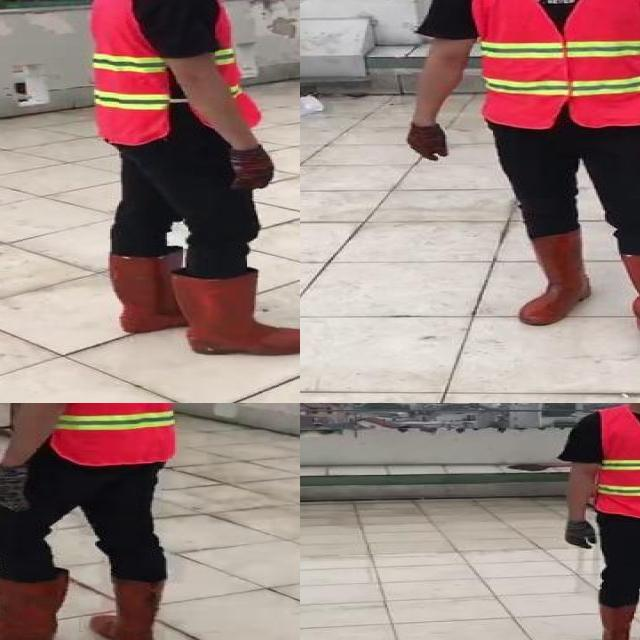boots: (170, 266, 300, 355), (103, 252, 201, 332), (520, 229, 589, 327), (90, 579, 168, 640), (0, 574, 70, 640), (617, 249, 640, 358), (594, 599, 639, 640)
hand_glove: (224, 149, 277, 190), (408, 121, 448, 162), (0, 466, 32, 514), (561, 521, 600, 551)
person: (398, 0, 640, 368), (82, 0, 300, 360), (0, 403, 185, 640), (555, 403, 640, 640)
vest: (92, 0, 255, 142), (468, 0, 640, 126), (45, 403, 180, 465), (596, 403, 640, 519)
